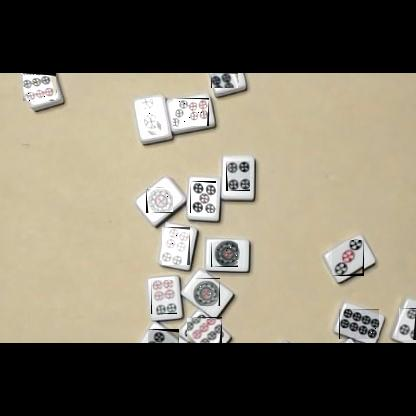1p: (193, 278, 220, 306), (211, 240, 238, 267), (146, 188, 173, 213)
2p: (143, 100, 161, 135)
3p: (332, 240, 364, 276)
4p: (226, 161, 250, 191), (399, 308, 416, 340), (148, 329, 179, 343)
5p: (190, 181, 216, 213)
6p: (162, 227, 190, 265), (151, 280, 177, 314)
7p: (173, 98, 209, 126)
8p: (339, 309, 379, 339), (211, 73, 238, 88)
9p: (23, 73, 56, 101), (187, 317, 222, 343)
